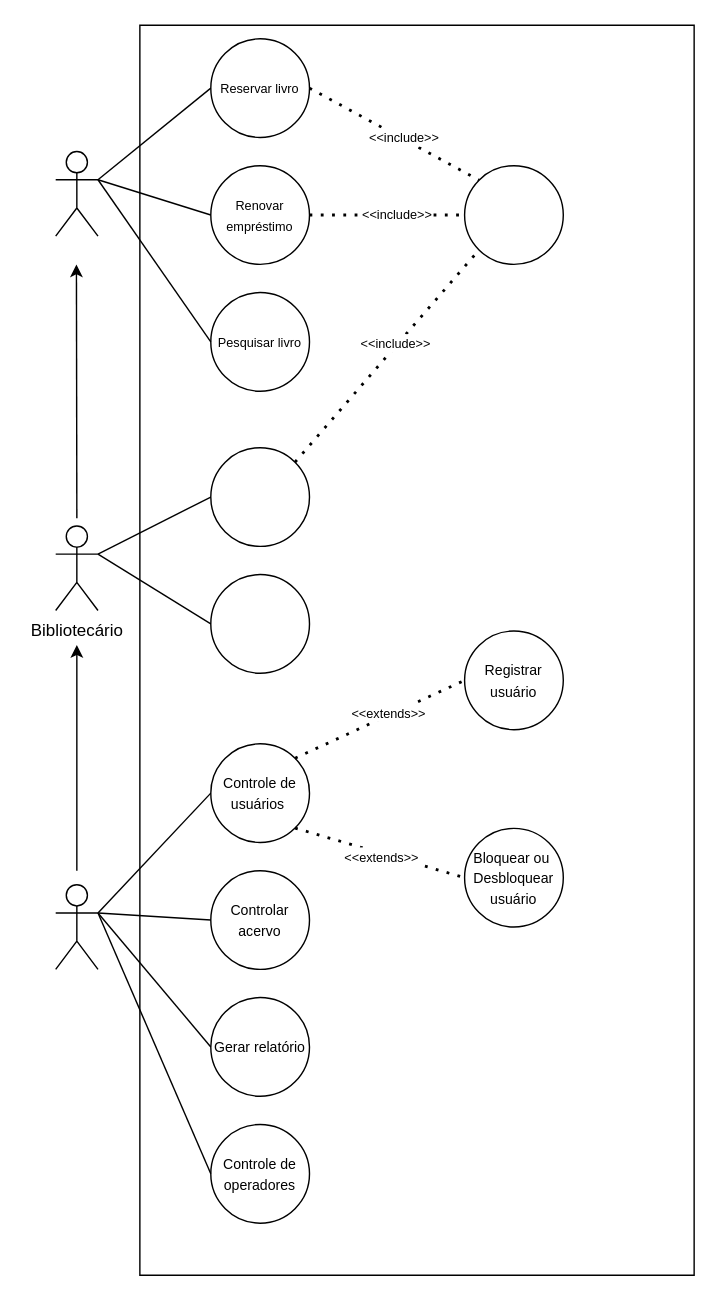
This 719x1300 diagram has some shape labels left out. Each missing label, with the centre of its shape:
"Administrador" belongs at [76,926].
"Registrar empréstimo e devolução" belongs at [259,496].
"Registrar livro no acervo" belongs at [259,623].
"Usuário" belongs at [76,193].
"Verificar bloqueio/ multa/ pendências" belongs at [513,214].
